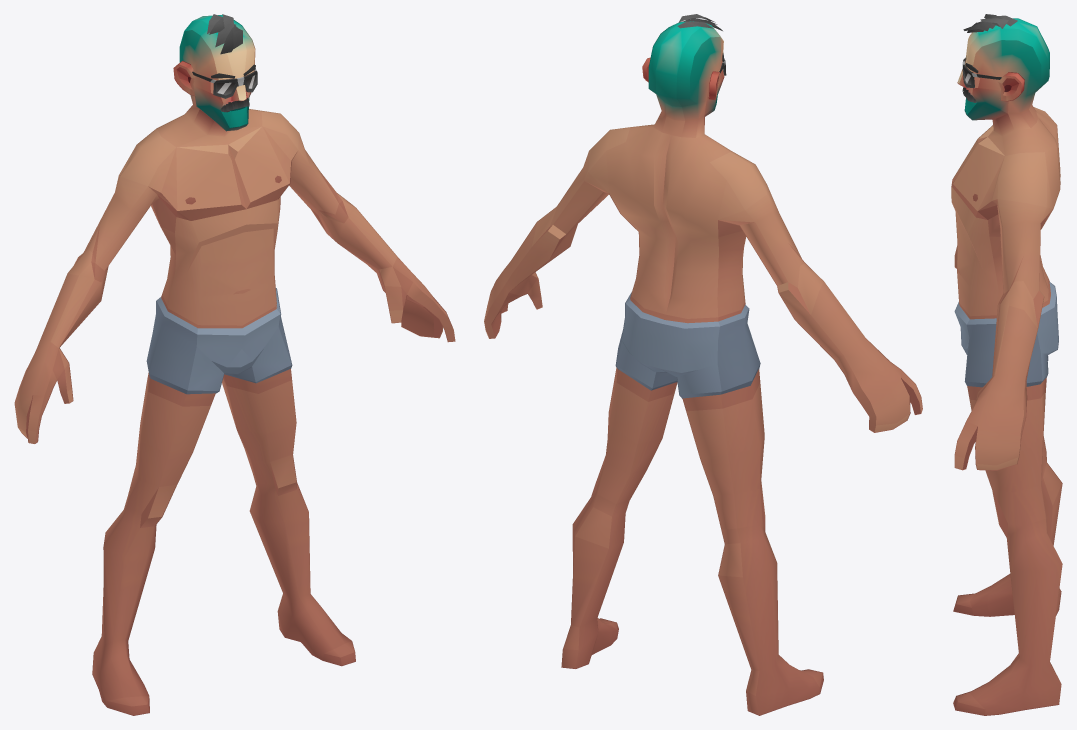
File: random_guy.glb
3 views of the same model, side by side, from view 1: azimuth 30°, elevation 25°; view 2: azimuth 150°, elevation 25°; view 3: azimuth 270°, elevation 25° (orthographic). The views are drawn at different scales.
Parts seen in each view (by area): view 1: Cube, Hair; view 2: Cube; view 3: Cube, Hair, Okulary.
Part boxes in pixels (<box>): Cube: <box>14,14,455,715</box>; Hair: <box>207,14,242,54</box>; Cube: <box>484,21,922,715</box>; Cube: <box>951,18,1062,715</box>; Hair: <box>963,14,1017,32</box>; Okulary: <box>962,58,1001,88</box>.
Size of the model in its own units: 13.03 by 19.13 by 3.02.
3 materials, 3 textured.
